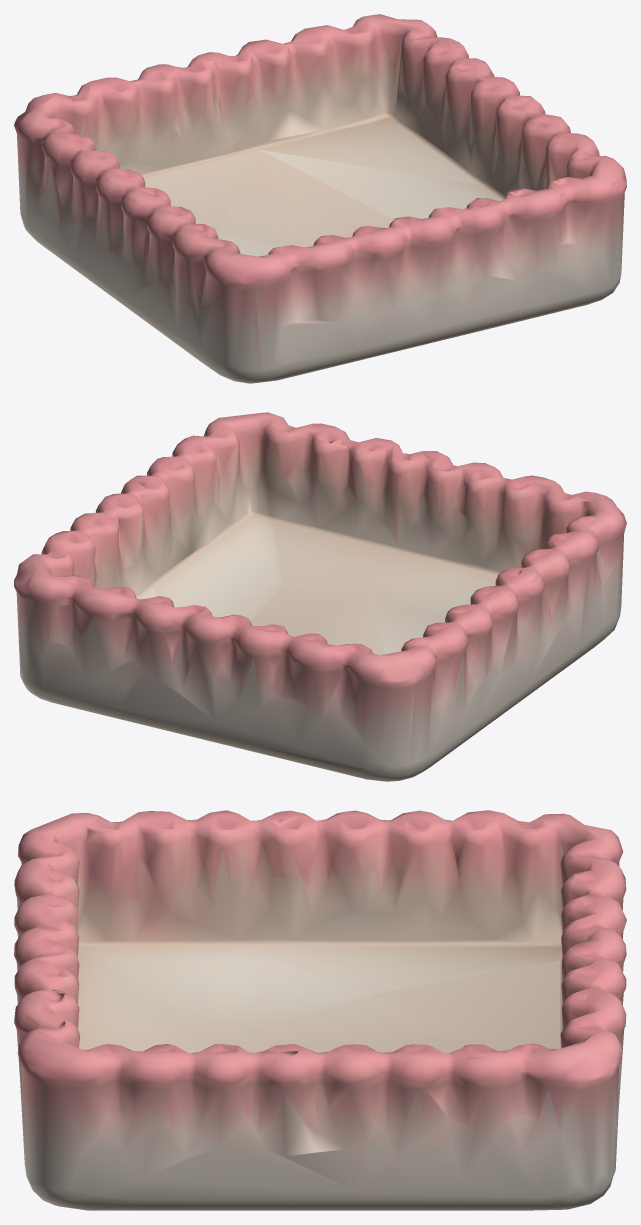
File: tray_dessert.fbx
The picture shows the model from 3 angles, top to bottom: view 1: azimuth 30°, elevation 25°; view 2: azimuth 150°, elevation 25°; view 3: azimuth 270°, elevation 25°; orthographic projection. The views are drawn at different scales.
Parts seen in each view (by area): view 1: tray_dessert; view 2: tray_dessert; view 3: tray_dessert.
Part boxes in pixels (x1,y1,x2,y2): tray_dessert: (14, 14, 626, 383); tray_dessert: (14, 412, 626, 781); tray_dessert: (14, 810, 626, 1210).
Bounding box in the file's own units: 99.93 × 29.97 × 100.
Materials: 1 (1 with a texture image).
